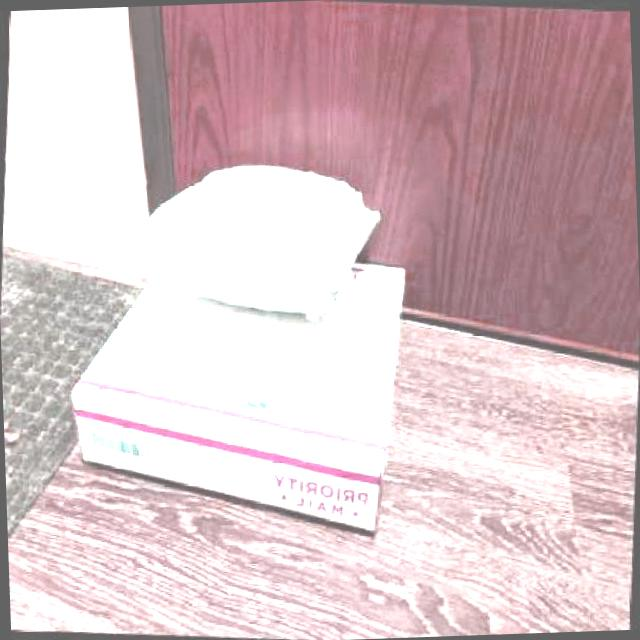Box: (55, 237, 419, 552), (128, 145, 396, 331)
